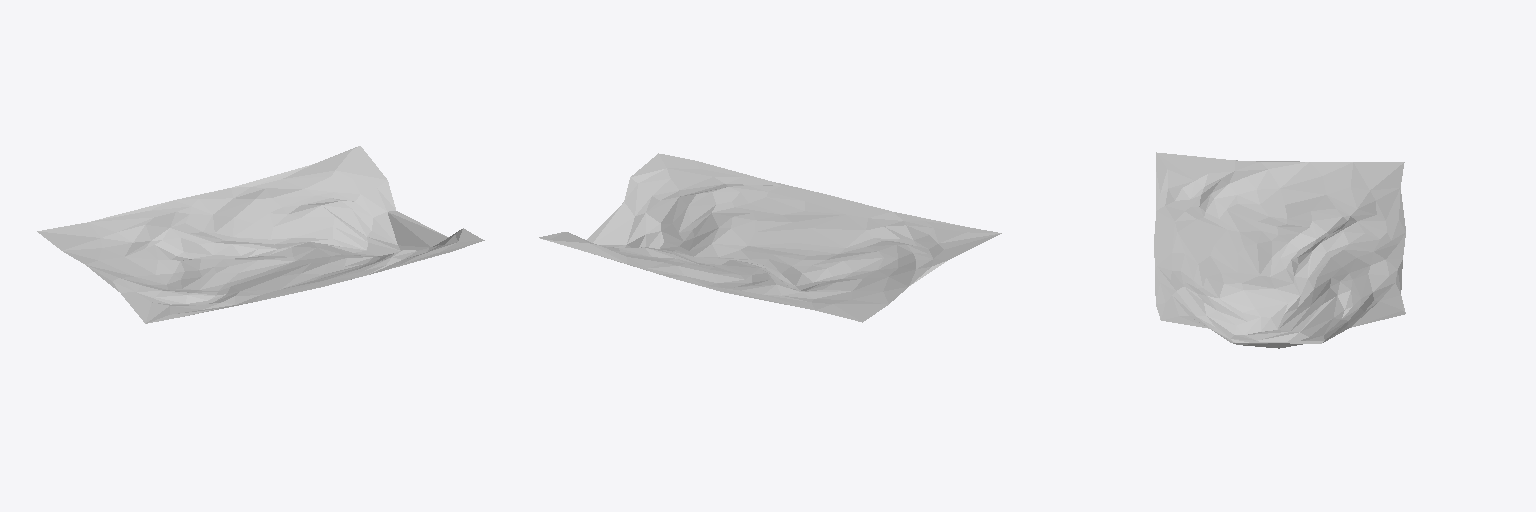
Rendered from blanket.obj.
The picture shows the model from 3 angles: view 1: azimuth 30°, elevation 25°; view 2: azimuth 150°, elevation 25°; view 3: azimuth 270°, elevation 25°; orthographic projection.
Visible parts, largest first — view 1: cube_NewUVs1; view 2: cube_NewUVs1; view 3: cube_NewUVs1.
Part boxes in pixels (x1,y1,x2,y2): cube_NewUVs1: (37,146,484,323); cube_NewUVs1: (539,153,1001,322); cube_NewUVs1: (1154,152,1405,348).
Bounding box in the file's own units: 2.44 × 0.3185 × 1.55.